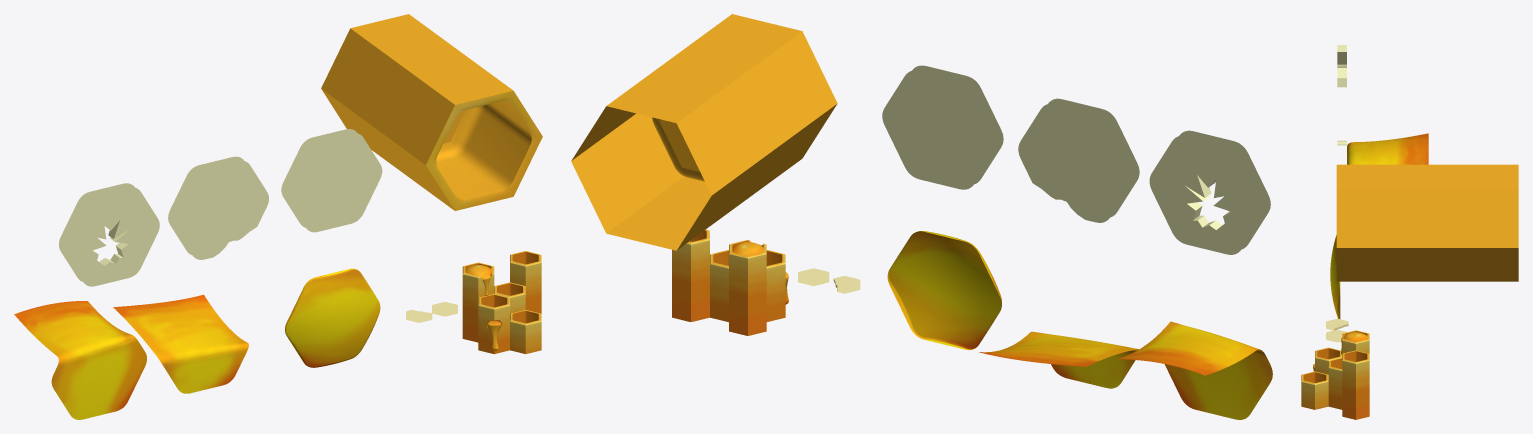
File: Honeycomb.fbx
3 views of the same model, side by side, from view 1: azimuth 30°, elevation 25°; view 2: azimuth 150°, elevation 25°; view 3: azimuth 270°, elevation 25° (orthographic). The views are drawn at different scales.
Visible parts, largest first — view 1: HoneyStore_Wall_01, HoneyBeingFilled_wall_006, HoneyStore_Wall_02, HoneyBeingFilled_wall_005, Wax__Wall_01, Wax__Wall_03, Wax__Wall_02, FullHoney_wall002, HoneyStore_Gournd_02, HoneyStore_Gournd_04, HoneyStore_Gournd_03, HoneyStore_Gournd_05 (+1 smaller); view 2: HoneyStore_Wall_02, HoneyStore_Wall_01, Wax__Wall_01, Wax__Wall_03, Wax__Wall_02, FullHoney_wall002, HoneyBeingFilled_wall_006, HoneyBeingFilled_wall_005, HoneyStore_Gournd_04, HoneyStore_Gournd_03, HoneyStore_Gournd_02, HoneyStore_Gournd_01; view 3: HoneyStore_Wall_01, HoneyStore_Wall_02, HoneyBeingFilled_wall_006, HoneyStore_Gournd_03, HoneyStore_Gournd_05, HoneyStore_Gournd_01, FullHoney_wall002, HoneyStore_Gournd_02, Wax__Wall_03, HoneyStore_Gournd_04.
Part boxes in pixels (x1=…): HoneyStore_Wall_01: x1=373, y1=52, x2=542, y2=210; HoneyBeingFilled_wall_006: x1=14, y1=301, x2=146, y2=419; HoneyStore_Wall_02: x1=321, y1=14, x2=460, y2=172; HoneyBeingFilled_wall_005: x1=113, y1=294, x2=248, y2=393; Wax__Wall_01: x1=281, y1=129, x2=382, y2=232; Wax__Wall_03: x1=59, y1=183, x2=159, y2=286; Wax__Wall_02: x1=168, y1=156, x2=268, y2=259; FullHoney_wall002: x1=285, y1=268, x2=380, y2=367; HoneyStore_Gournd_02: x1=478, y1=294, x2=509, y2=354; HoneyStore_Gournd_04: x1=462, y1=262, x2=494, y2=342; HoneyStore_Gournd_03: x1=510, y1=251, x2=541, y2=313; HoneyStore_Gournd_05: x1=510, y1=310, x2=541, y2=354; HoneyStore_Wall_02: x1=571, y1=60, x2=774, y2=250; HoneyStore_Wall_01: x1=634, y1=14, x2=837, y2=203; Wax__Wall_01: x1=882, y1=65, x2=1003, y2=189; Wax__Wall_03: x1=1149, y1=130, x2=1270, y2=254; Wax__Wall_02: x1=1018, y1=98, x2=1139, y2=222; FullHoney_wall002: x1=887, y1=231, x2=1001, y2=350; HoneyBeingFilled_wall_006: x1=1118, y1=321, x2=1272, y2=419; HoneyBeingFilled_wall_005: x1=979, y1=331, x2=1138, y2=388; HoneyStore_Gournd_04: x1=729, y1=240, x2=766, y2=335; HoneyStore_Gournd_03: x1=672, y1=229, x2=709, y2=321; HoneyStore_Gournd_02: x1=766, y1=250, x2=785, y2=321; HoneyStore_Gournd_01: x1=710, y1=250, x2=728, y2=322; HoneyStore_Wall_01: x1=1336, y1=164, x2=1427, y2=281; HoneyStore_Wall_02: x1=1427, y1=164, x2=1518, y2=281; HoneyBeingFilled_wall_006: x1=1347, y1=133, x2=1428, y2=164; HoneyStore_Gournd_03: x1=1342, y1=350, x2=1369, y2=419; HoneyStore_Gournd_05: x1=1301, y1=371, x2=1328, y2=409; HoneyStore_Gournd_01: x1=1328, y1=357, x2=1342, y2=409; FullHoney_wall002: x1=1330, y1=235, x2=1340, y2=318; HoneyStore_Gournd_02: x1=1315, y1=347, x2=1342, y2=374; Wax__Wall_03: x1=1337, y1=45, x2=1346, y2=87; HoneyStore_Gournd_04: x1=1342, y1=330, x2=1369, y2=353.
Bounding box in the file's own units: 5540 × 2636 × 2429.
Materials: 11 (11 with a texture image).
